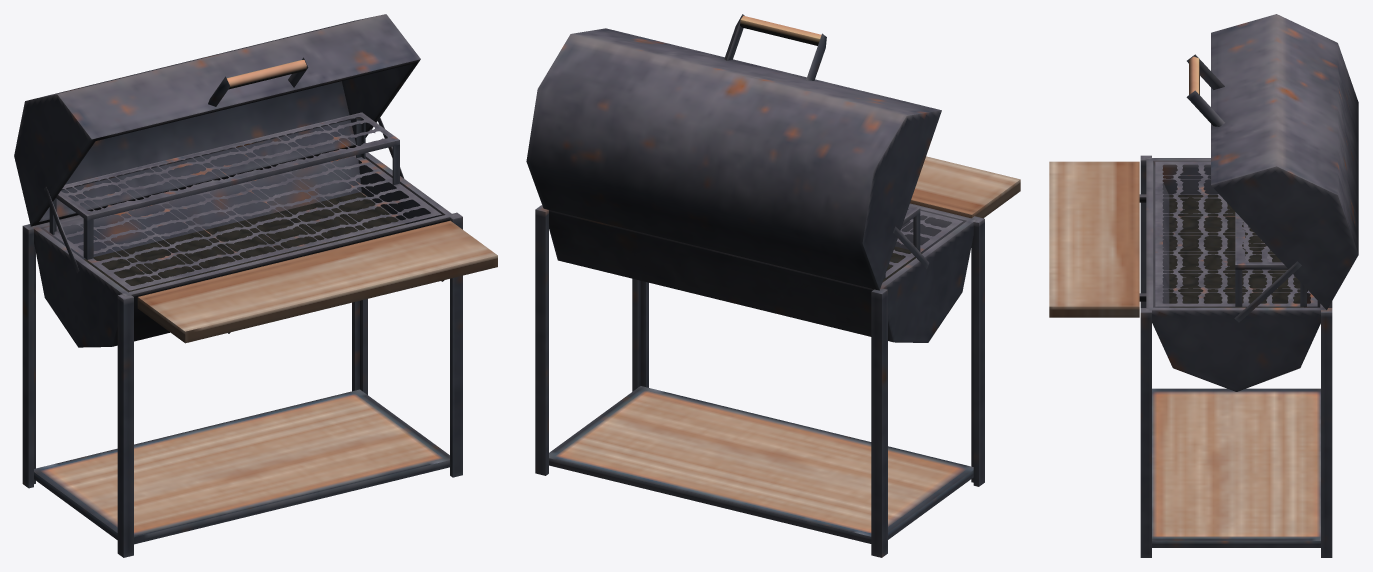
Rendered from Grill.FBX.
3 views of the same model, side by side, from view 1: azimuth 30°, elevation 25°; view 2: azimuth 150°, elevation 25°; view 3: azimuth 270°, elevation 25° (orthographic). The views are drawn at different scales.
Visible parts, largest first — view 1: Grill; view 2: Grill; view 3: Grill.
Part boxes in pixels (x1,y1,x2,y2): Grill: [14, 14, 497, 557]; Grill: [526, 14, 1020, 557]; Grill: [1049, 14, 1358, 557].
Size of the model in its own units: 126 by 152 by 105.
2 materials, 2 textured.
